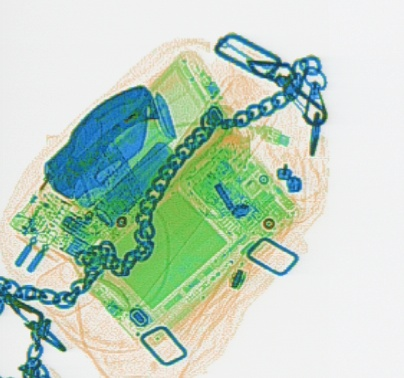knife: (43, 84, 160, 201)
lighter: (6, 126, 87, 235)
